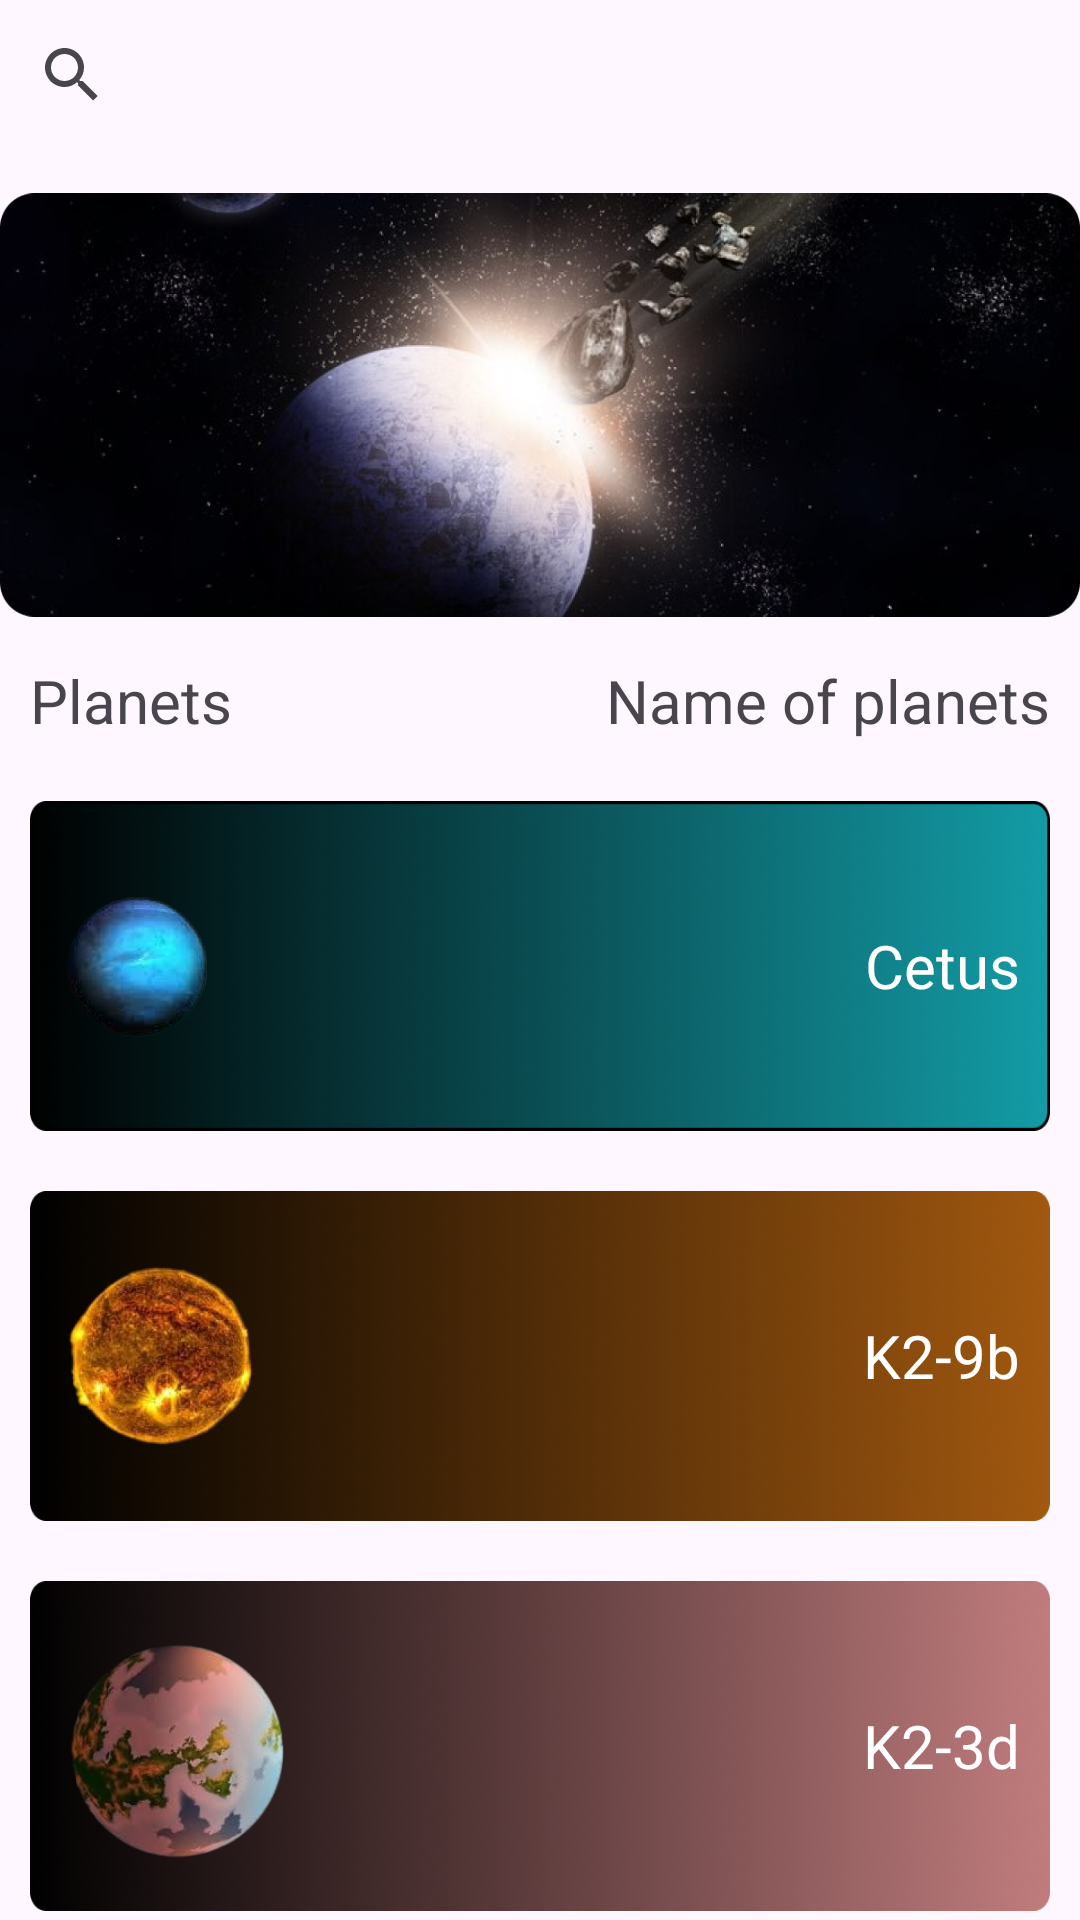

Screen size 1080px×1920px. Icon name, then its box in pixels as (x1, y1, x2, y2):
blu: (30, 801, 330, 1131)
